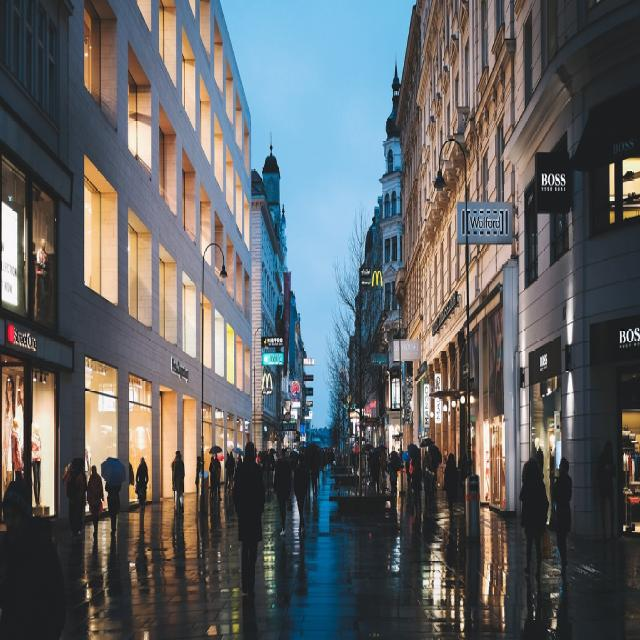body: (0, 477, 70, 639), (0, 368, 44, 507), (86, 515, 148, 609), (231, 439, 266, 599), (520, 457, 549, 588), (468, 309, 502, 410), (552, 456, 572, 582), (31, 236, 54, 326), (64, 455, 86, 539), (272, 446, 292, 536), (195, 499, 232, 542), (304, 446, 332, 501), (532, 439, 556, 498), (86, 462, 104, 540), (293, 446, 308, 536), (170, 504, 186, 578), (387, 449, 411, 497), (422, 443, 440, 502), (104, 480, 122, 536), (443, 452, 456, 524), (170, 448, 184, 514), (134, 456, 148, 514), (422, 456, 436, 514), (172, 452, 184, 516), (410, 459, 422, 513), (370, 449, 382, 494), (206, 453, 217, 502), (255, 447, 278, 470), (212, 452, 222, 502), (222, 450, 232, 494), (194, 453, 202, 501), (285, 444, 298, 472), (228, 450, 236, 494), (380, 448, 388, 481), (365, 448, 373, 469), (128, 460, 134, 487), (235, 450, 242, 464)
